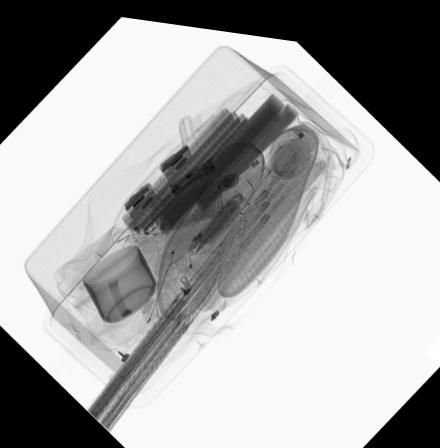Lighter: (132, 181, 183, 235)
